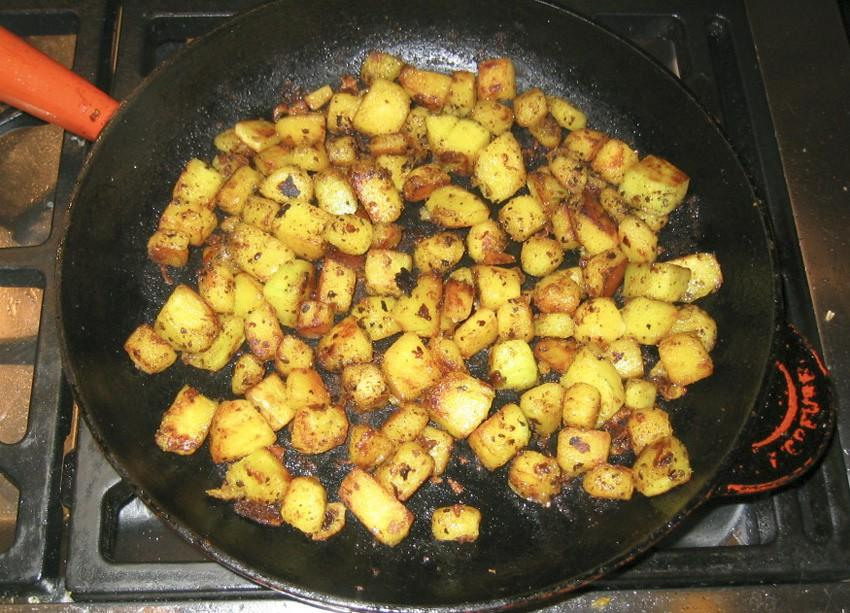AlooMasala: (126, 53, 719, 546)
